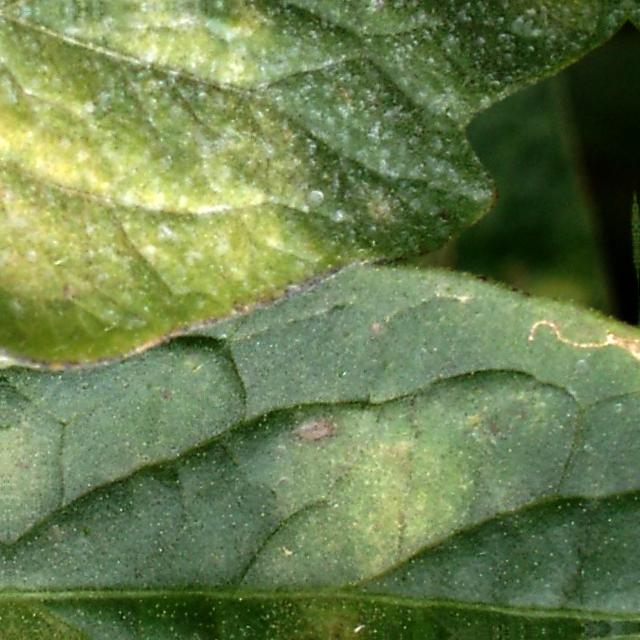Tomato mold leaf: (0, 169, 640, 640), (0, 0, 640, 364)
